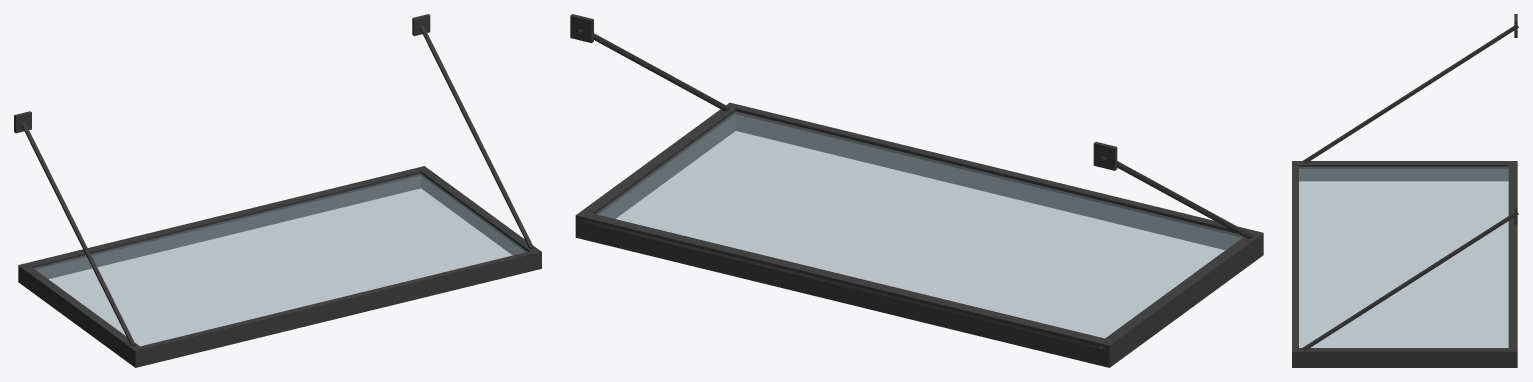
Rendered from canopy_metal_4m.glb.
3 renders of one model, left to right at view 1: azimuth 30°, elevation 25°; view 2: azimuth 150°, elevation 25°; view 3: azimuth 270°, elevation 25°, orthographic. The views are drawn at different scales.
Visible parts, largest first — view 1: canopy_metal; view 2: canopy_metal; view 3: canopy_metal.
Part boxes in pixels (left/top/right/bottom): canopy_metal: left=14, top=14, right=541, bottom=367; canopy_metal: left=570, top=14, right=1263, bottom=367; canopy_metal: left=1292, top=14, right=1518, bottom=367.
Size of the model in its own units: 4.08 by 1.58 by 2.01.
